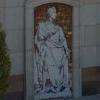Statue: (23, 4, 75, 90)
